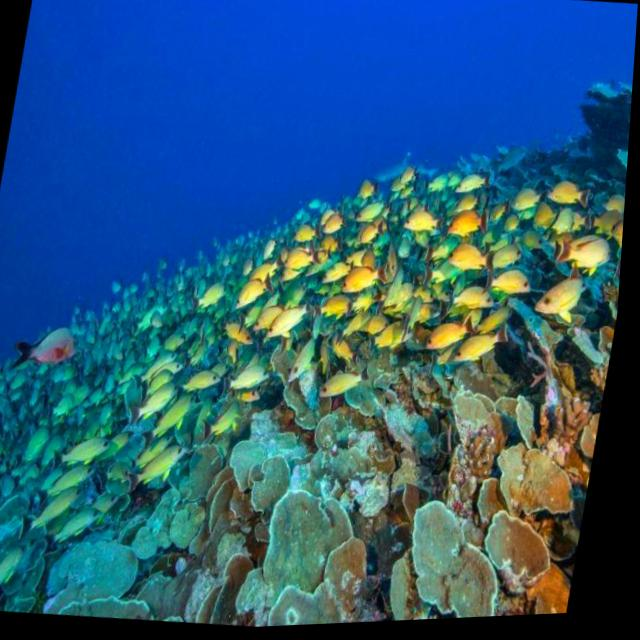Healthy Coral: (143, 347, 608, 634)
